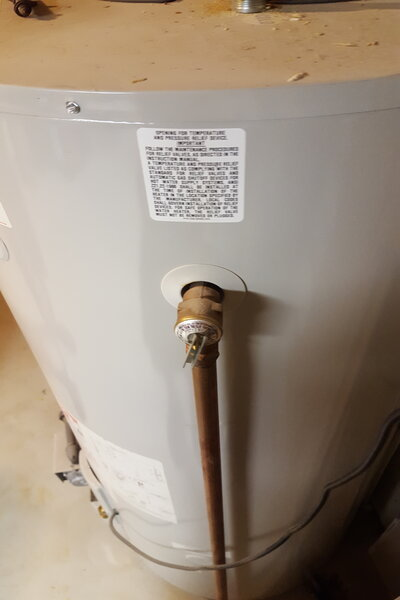valve: (176, 281, 226, 368)
